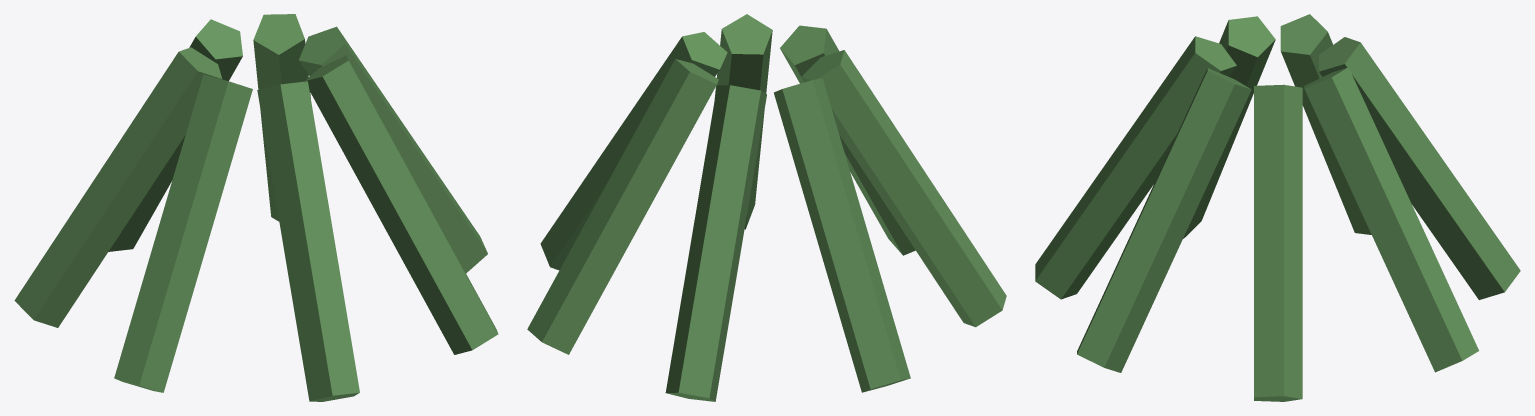
File: norway-fern_lod0.glb
The picture shows the model from 3 angles, left to right: view 1: azimuth 30°, elevation 25°; view 2: azimuth 150°, elevation 25°; view 3: azimuth 270°, elevation 25°; orthographic projection.
Visible parts, largest first — view 1: RF_Fern4, RF_Fern5, RF_Fern6, RF_Fern3, RF_Fern0, RF_Fern1, RF_Fern2; view 2: RF_Fern3, RF_Fern2, RF_Fern1, RF_Fern4, RF_Fern0, RF_Fern6, RF_Fern5; view 3: RF_Fern1, RF_Fern6, RF_Fern0, RF_Fern5, RF_Fern2, RF_Fern3, RF_Fern4.
Part boxes in pixels (x1=…): RF_Fern4: x1=114, y1=74, x2=252, y2=392; RF_Fern5: x1=257, y1=81, x2=359, y2=401; RF_Fern6: x1=304, y1=55, x2=498, y2=354; RF_Fern3: x1=14, y1=47, x2=222, y2=327; RF_Fern0: x1=298, y1=26, x2=487, y2=273; RF_Fern1: x1=253, y1=14, x2=310, y2=221; RF_Fern2: x1=108, y1=19, x2=242, y2=251; RF_Fern3: x1=774, y1=78, x2=910, y2=392; RF_Fern2: x1=665, y1=85, x2=766, y2=401; RF_Fern1: x1=527, y1=59, x2=718, y2=354; RF_Fern4: x1=801, y1=50, x2=1006, y2=327; RF_Fern0: x1=540, y1=32, x2=727, y2=270; RF_Fern6: x1=714, y1=14, x2=772, y2=229; RF_Fern5: x1=780, y1=25, x2=915, y2=255; RF_Fern1: x1=1304, y1=67, x2=1478, y2=372; RF_Fern6: x1=1077, y1=68, x2=1251, y2=372; RF_Fern0: x1=1254, y1=84, x2=1302, y2=401; RF_Fern5: x1=1035, y1=36, x2=1236, y2=299; RF_Fern2: x1=1319, y1=37, x2=1520, y2=299; RF_Fern3: x1=1280, y1=14, x2=1371, y2=234; RF_Fern4: x1=1183, y1=16, x2=1275, y2=238.
Size of the model in its own units: 2.13 by 1.32 by 2.17.
